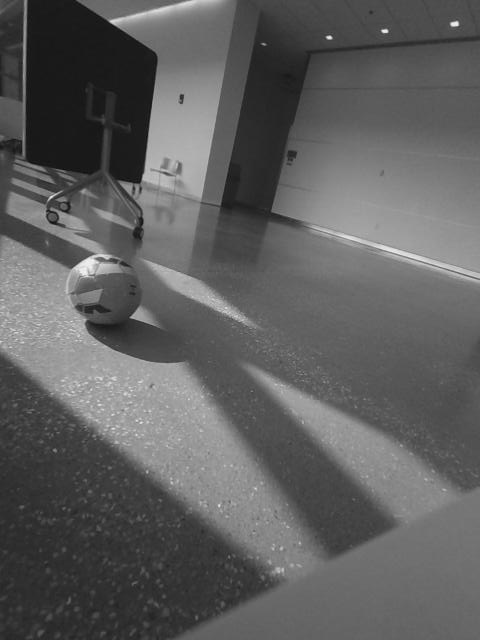ball: (63, 251, 145, 331)
